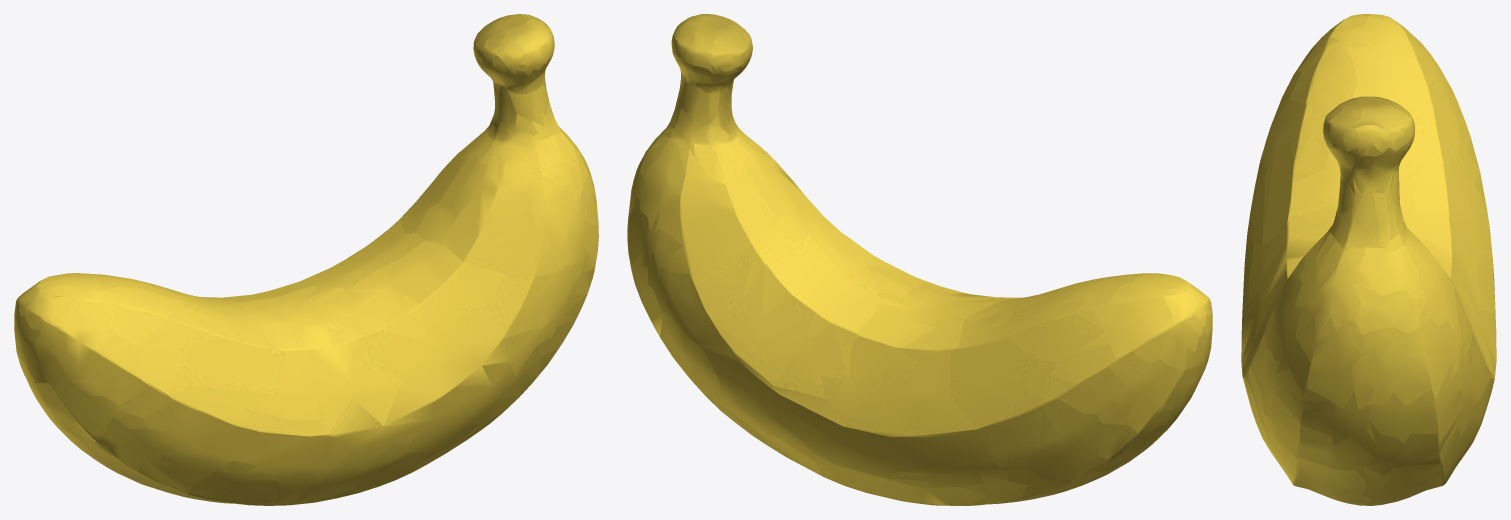
File: banana.27ad99dc.glb
The picture shows the model from 3 angles, left to right: view 1: azimuth 30°, elevation 25°; view 2: azimuth 150°, elevation 25°; view 3: azimuth 270°, elevation 25°; orthographic projection. The views are drawn at different scales.
Parts seen in each view (by area): view 1: output_unwrapped; view 2: output_unwrapped; view 3: output_unwrapped.
Part boxes in pixels (bbox=[...]): output_unwrapped: bbox=[14, 14, 598, 505]; output_unwrapped: bbox=[627, 14, 1212, 505]; output_unwrapped: bbox=[1241, 14, 1496, 505].
Bounding box in the file's own units: 1.9 × 1.34 × 0.6509.
Materials: 1 (1 with a texture image).
